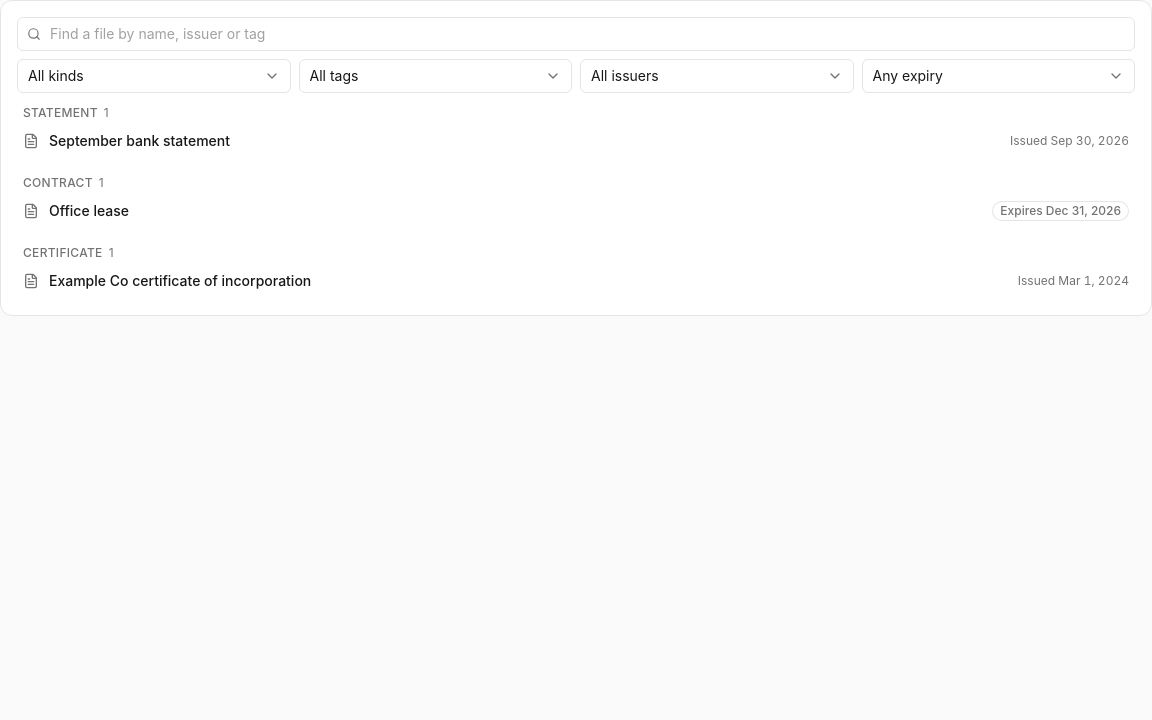
FileList at a glance › shows each file’s icon, name and one date by default, and opens it in the viewer
The width and height of the screenshot is (1152, 720).
Expected: the text "Issued Mar 1, 2024" is shown, [1018,273,1129,289]
Expected: the 8th icon is shown, [23,273,39,289]
Click the button "Example Co certificate of incorporation" at [180, 280], box [23,272,1129,289]
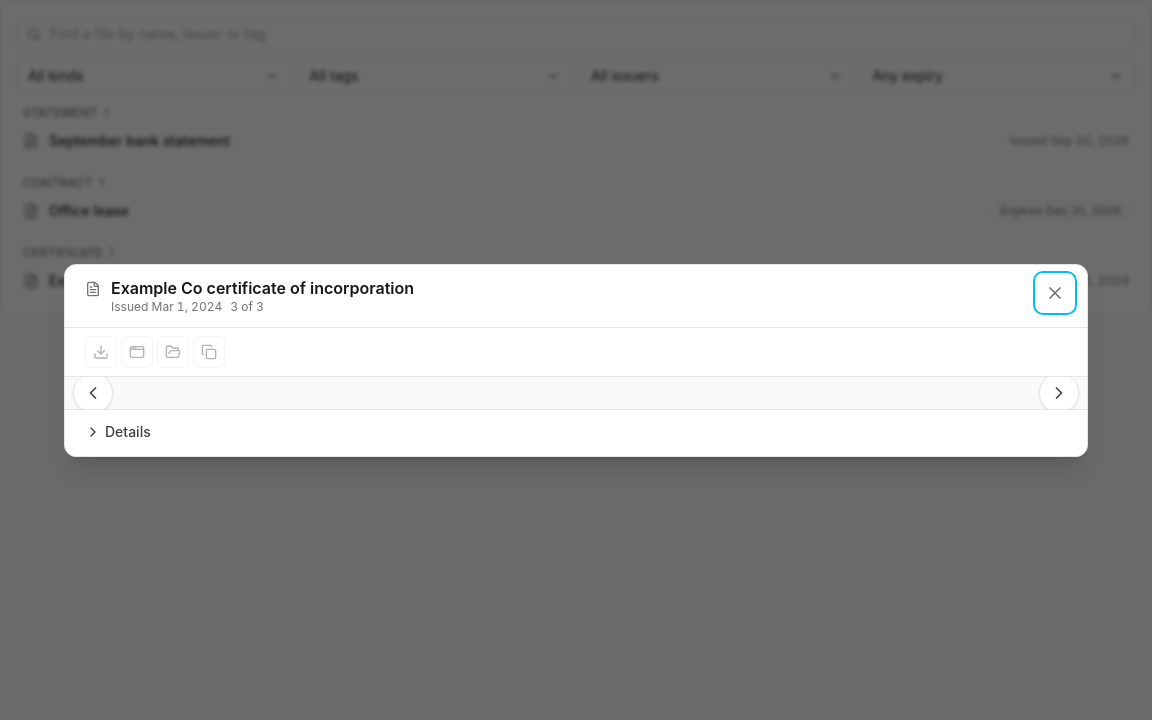
Expected: the dialog "Example Co certificate of incorporation" is shown
